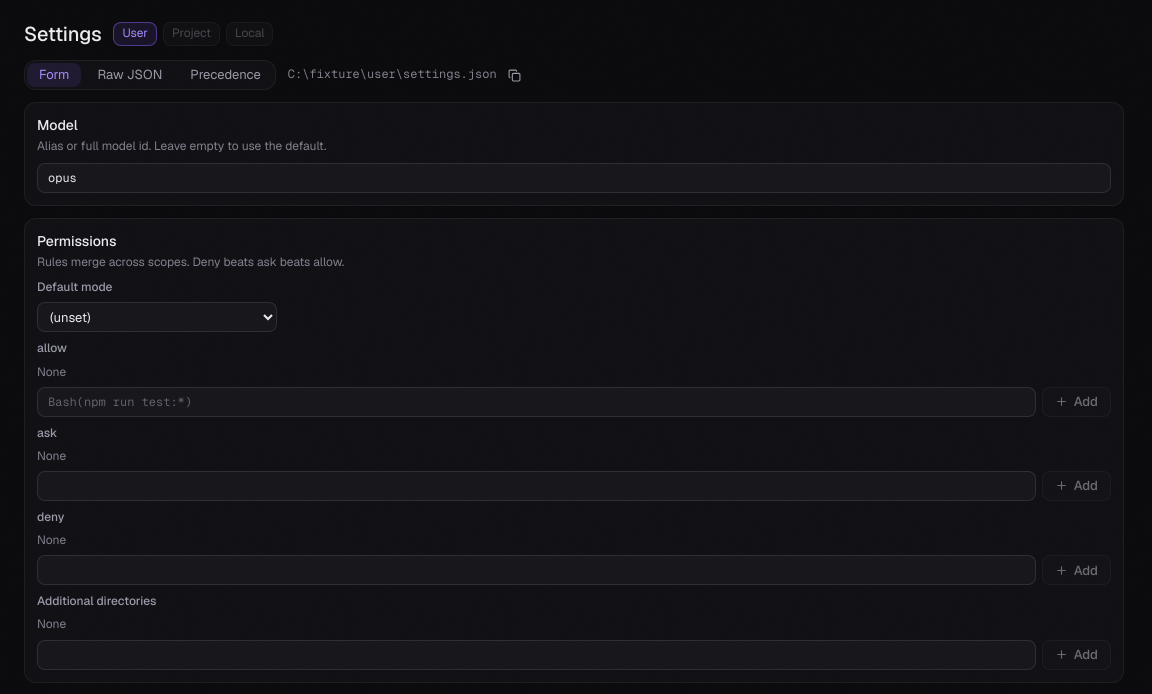
Test: conflicts and external changes › a dirty buffer is kept and shows a changed-on-disk banner on fs:changed
Replace the text in the field named "Model" with "mine". click: (574, 178)
box: [37,163,1111,193]
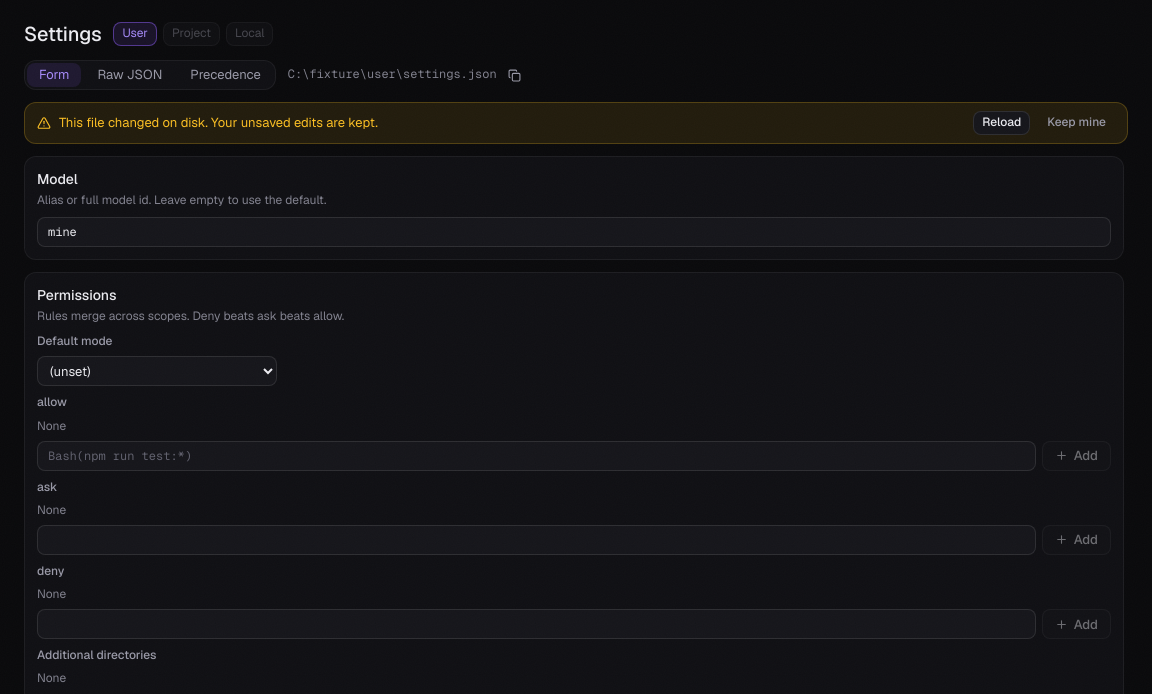
Check: the message "This file changed on disk. Your unsaved edits are kept. Reload Keep mine" is shown, box [24,102,1128,144]
Click the button "Reload". click: (1002, 123)
box: [973,111,1030,135]
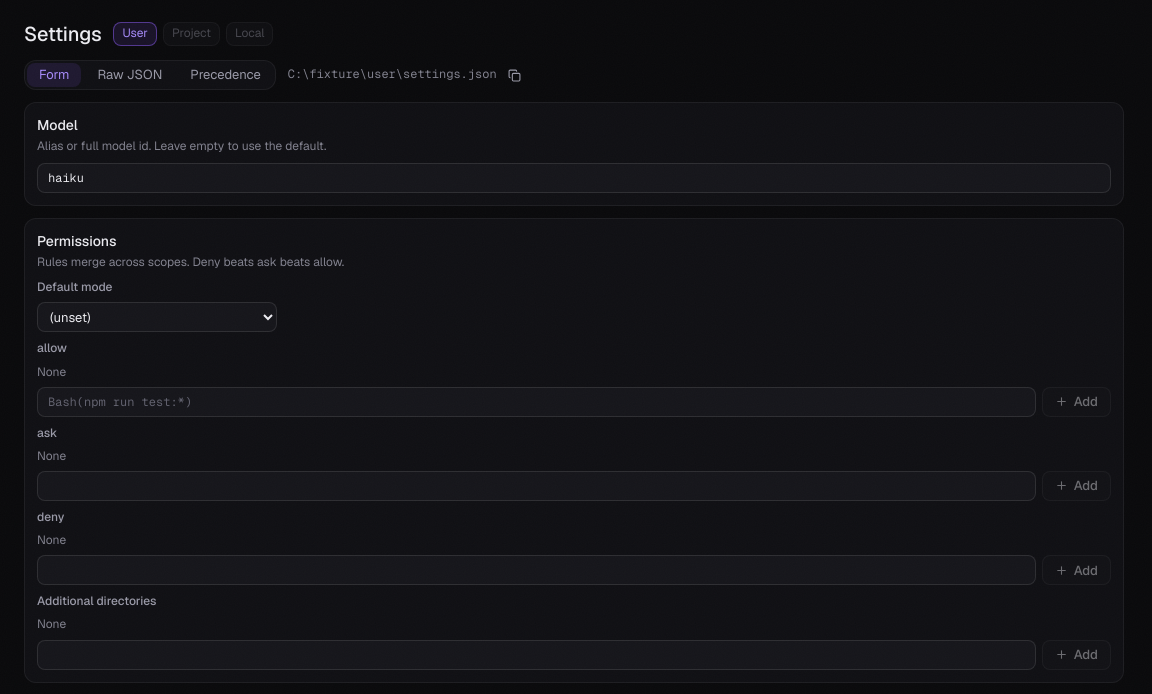
Check: the field named "Model" holds "haiku", box [37,163,1111,193]
